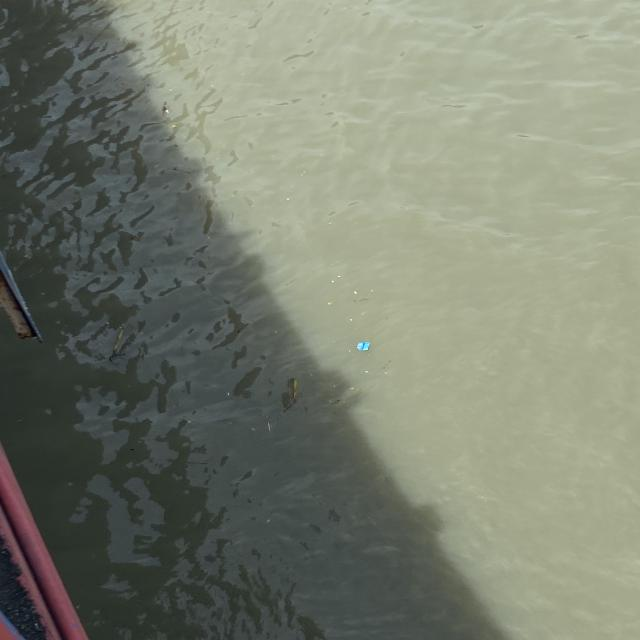Organic Debris: (278, 374, 302, 412), (108, 326, 126, 363), (380, 366, 388, 370), (349, 386, 355, 391), (352, 290, 358, 295), (170, 125, 180, 128), (363, 371, 370, 374), (330, 280, 335, 284), (186, 420, 192, 423), (382, 371, 388, 374), (369, 290, 375, 293), (327, 302, 333, 305), (336, 275, 342, 278), (349, 318, 353, 321)
Plastic: (353, 340, 373, 353), (225, 391, 231, 396)
